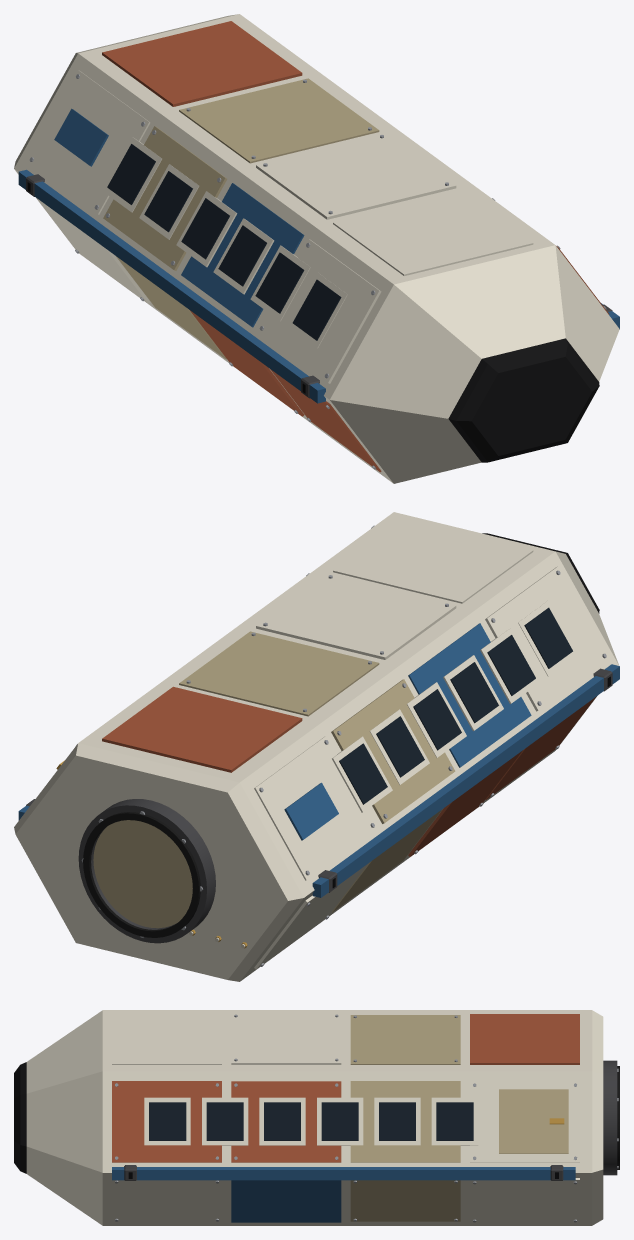
The model's file is boat20_hull.obj.
3 renders of one model, top to bottom at view 1: azimuth 30°, elevation 25°; view 2: azimuth 150°, elevation 25°; view 3: azimuth 270°, elevation 25°, orthographic. The views are drawn at different scales.
Parts seen in each view (by area): view 1: boat20_hull; view 2: boat20_hull; view 3: boat20_hull.
Part boxes in pixels (x1,y1,x2,y2): boat20_hull: (14,14,619,483); boat20_hull: (14,512,619,981); boat20_hull: (14,1010,619,1225).
Bounding box in the file's own units: 2.95 × 1.92 × 6.54.
